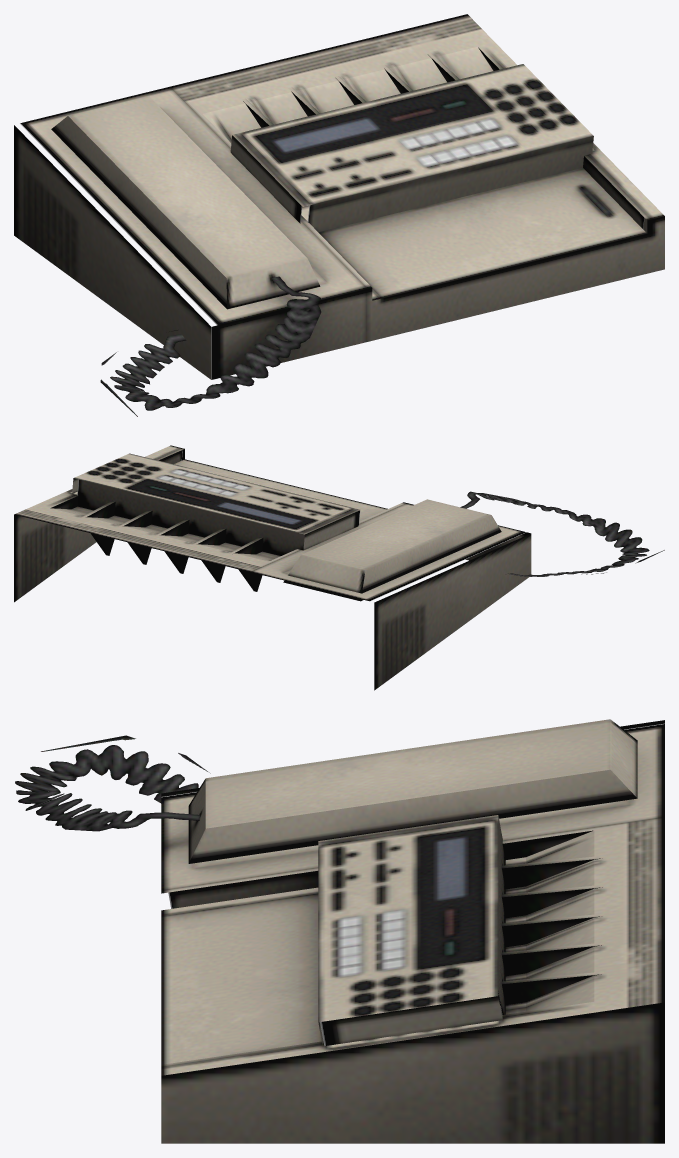
Rendered from FaxMachine.fbx.
3 views of the same model, one above another, from view 1: azimuth 30°, elevation 25°; view 2: azimuth 150°, elevation 25°; view 3: azimuth 270°, elevation 25° (orthographic). The views are drawn at different scales.
Parts seen in each view (by area): view 1: FaxMachine; view 2: FaxMachine; view 3: FaxMachine.
Boxes of the visible parts, <box> form: FaxMachine: <box>14,14,664,416</box>; FaxMachine: <box>14,445,664,690</box>; FaxMachine: <box>15,719,664,1143</box>.
Bounding box in the file's own units: 1.33 × 0.2807 × 1.02.
